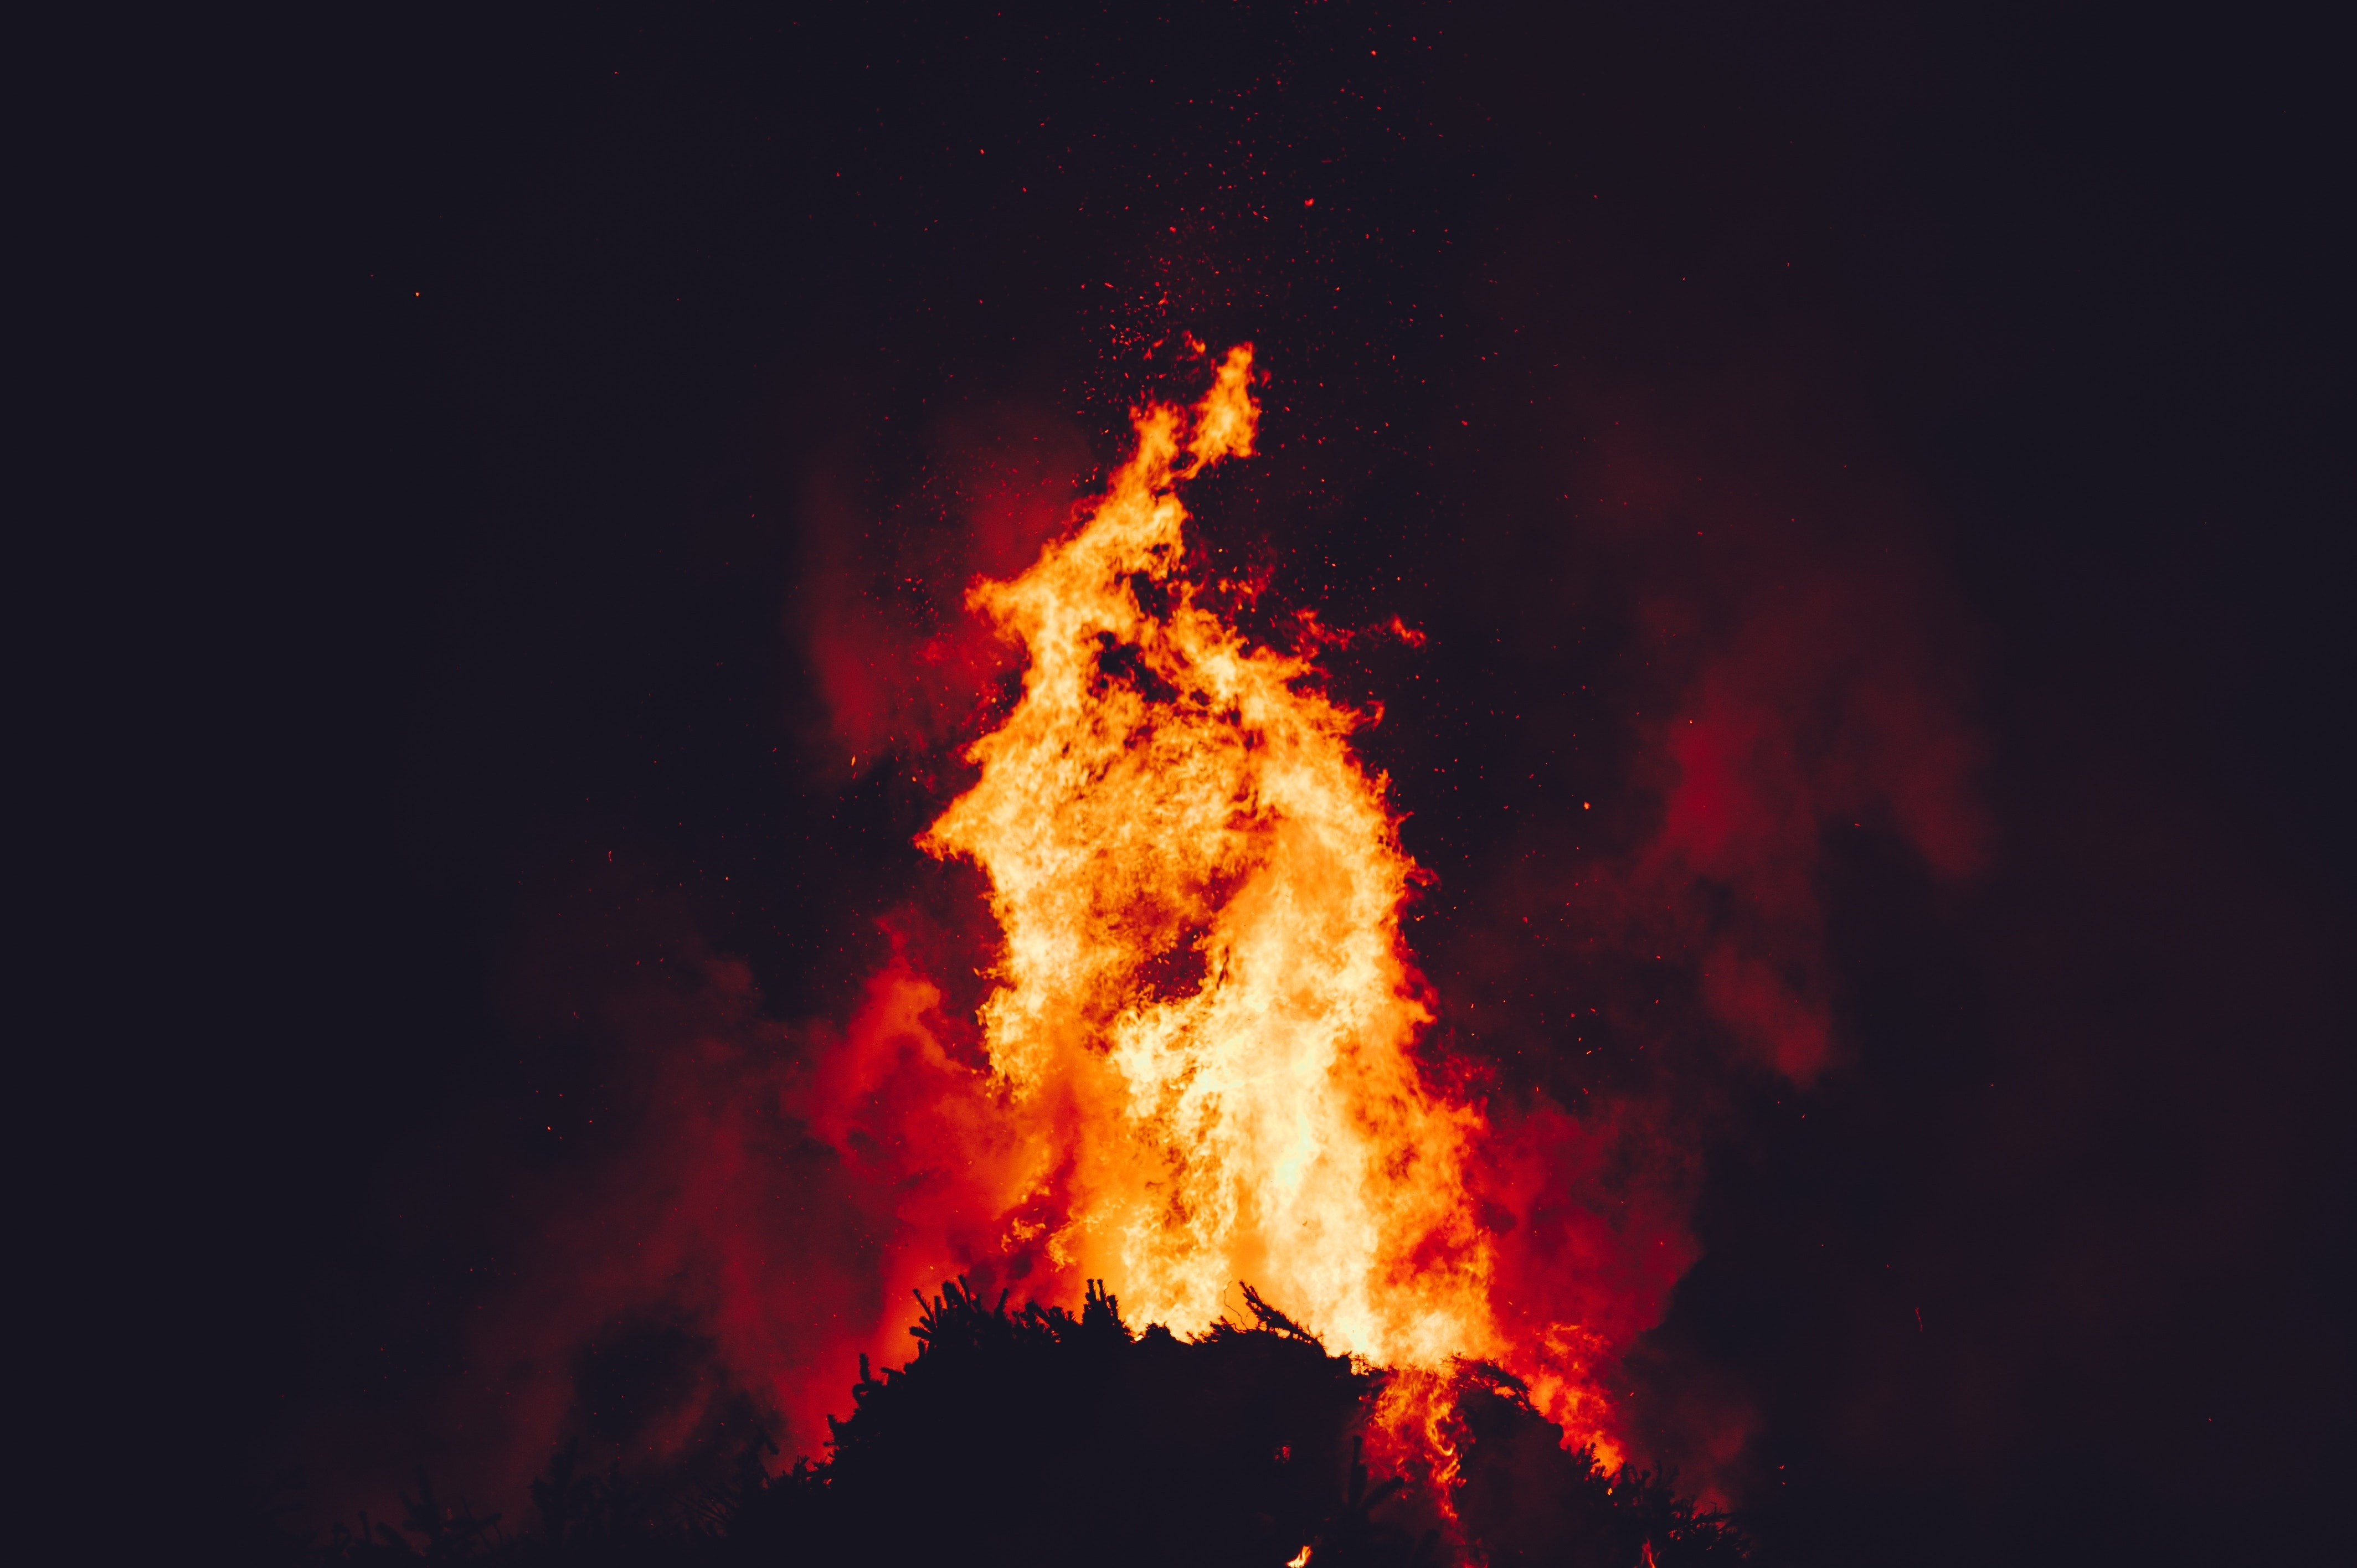fire: (836, 301, 1654, 1489)
